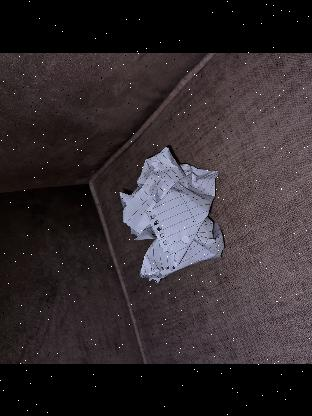Others: (119, 145, 223, 277)
